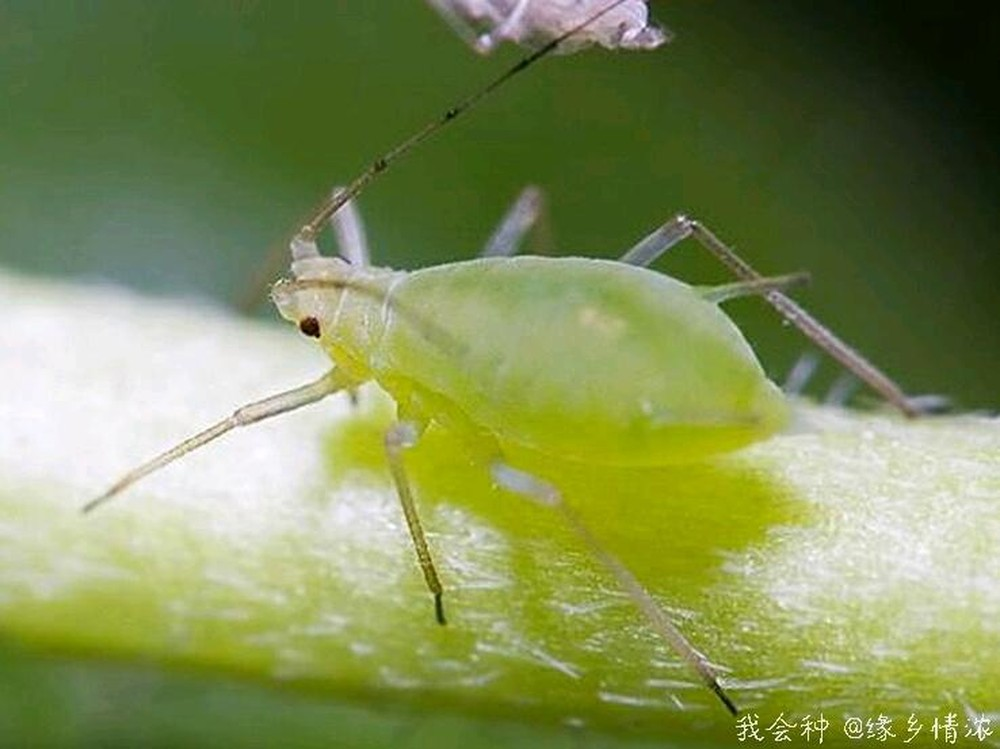Pulgon: (139, 79, 962, 685)
